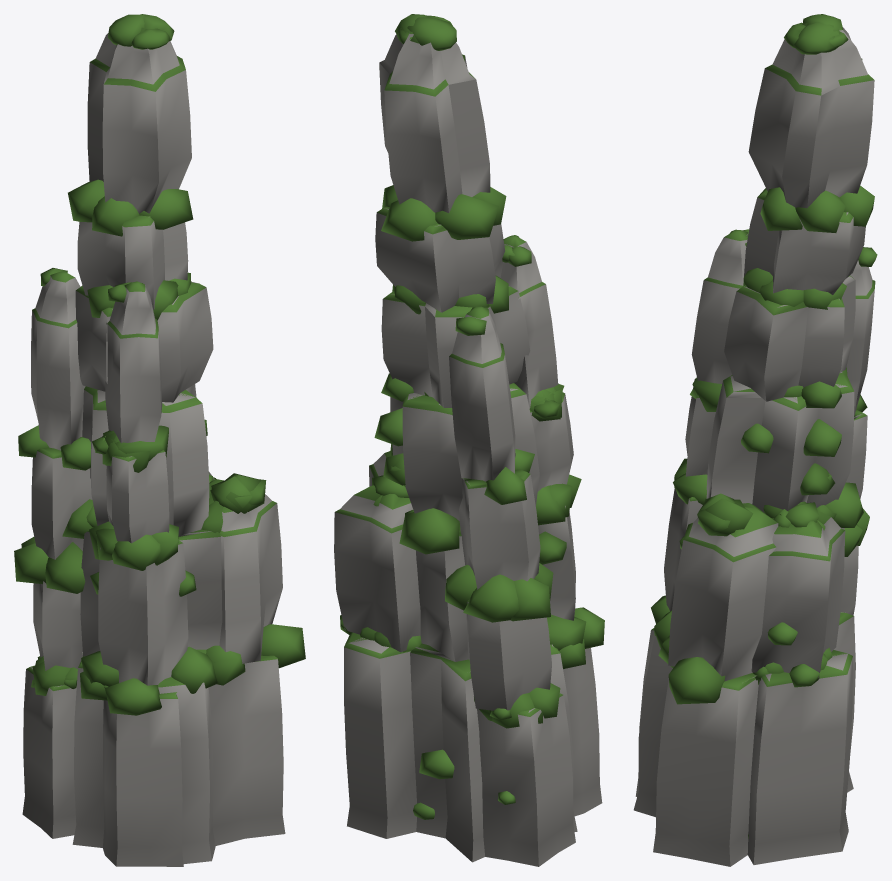
Rendered from karst_hero_c.glb.
The picture shows the model from 3 angles, left to right: view 1: azimuth 30°, elevation 25°; view 2: azimuth 150°, elevation 25°; view 3: azimuth 270°, elevation 25°; orthographic projection. The views are drawn at different scales.
Visible parts, largest first — view 1: karst_hero_c; view 2: karst_hero_c; view 3: karst_hero_c.
Part boxes in pixels (<box>): karst_hero_c: <box>14,14,305,866</box>; karst_hero_c: <box>334,14,604,866</box>; karst_hero_c: <box>633,14,877,866</box>.
Size of the model in its own units: 75.06 by 247 by 68.28.
